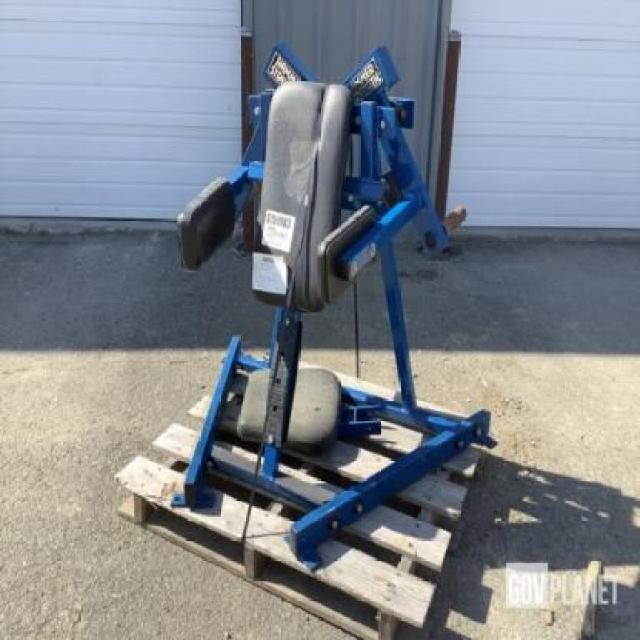lateral raises machine: (175, 46, 500, 568)
